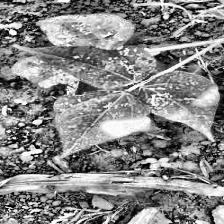ALS: (134, 68, 222, 143), (27, 51, 163, 91), (26, 6, 151, 48), (53, 95, 134, 145)
